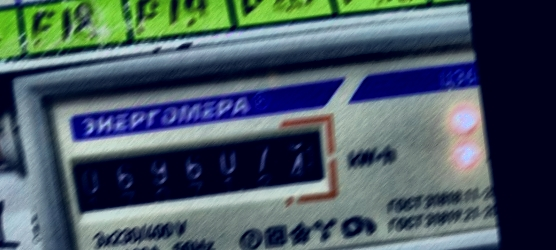0: (215, 144, 238, 177), (78, 166, 99, 196)
4: (286, 151, 305, 181)
6: (112, 160, 135, 190), (181, 151, 203, 182)
7: (251, 142, 272, 174)
9: (147, 157, 168, 187)
screen: (52, 107, 347, 232)
